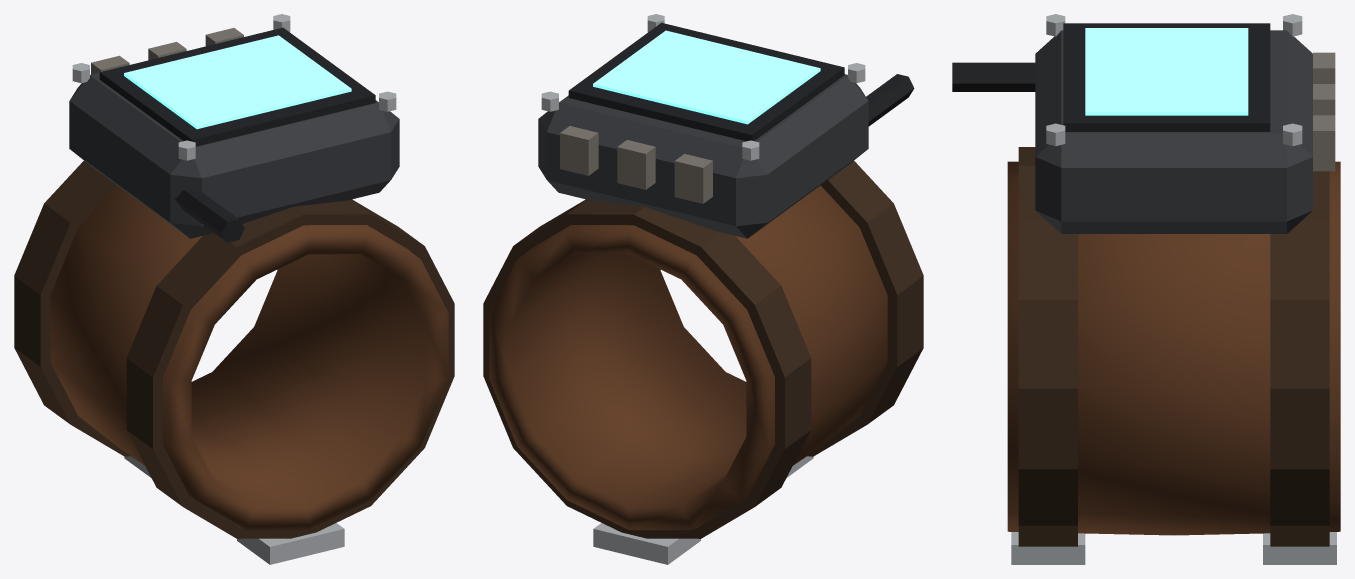
The model's file is wristpad.glb.
3 renders of one model, left to right at view 1: azimuth 30°, elevation 25°; view 2: azimuth 150°, elevation 25°; view 3: azimuth 270°, elevation 25°, orthographic. The views are drawn at different scales.
Visible parts, largest first — view 1: wristpad; view 2: wristpad; view 3: wristpad.
Boxes of the visible parts, x1,y1,x2,y2 form: wristpad: [14, 14, 454, 564]; wristpad: [483, 14, 923, 564]; wristpad: [952, 14, 1340, 564].
Bounding box in the file's own units: 0.1053 × 0.1415 × 0.105.
